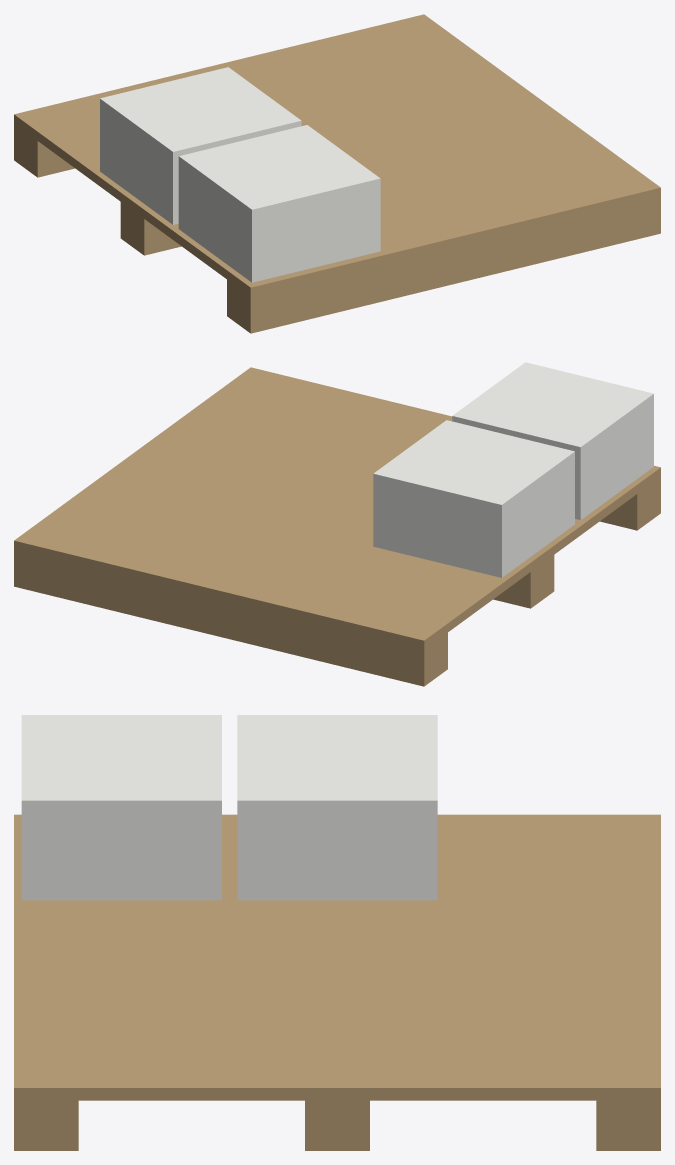
File: pallet_mp_02.glb
The picture shows the model from 3 angles, top to bottom: view 1: azimuth 30°, elevation 25°; view 2: azimuth 150°, elevation 25°; view 3: azimuth 270°, elevation 25°; orthographic projection. The views are drawn at different scales.
Parts seen in each view (by area): view 1: PalletMP; view 2: PalletMP; view 3: PalletMP.
Boxes of the visible parts, box(x1,y1,x2,y2) form: PalletMP: box(14, 14, 660, 333); PalletMP: box(14, 362, 660, 686); PalletMP: box(14, 715, 660, 1150).
Bounding box in the file's own units: 1 × 0.2814 × 1.
